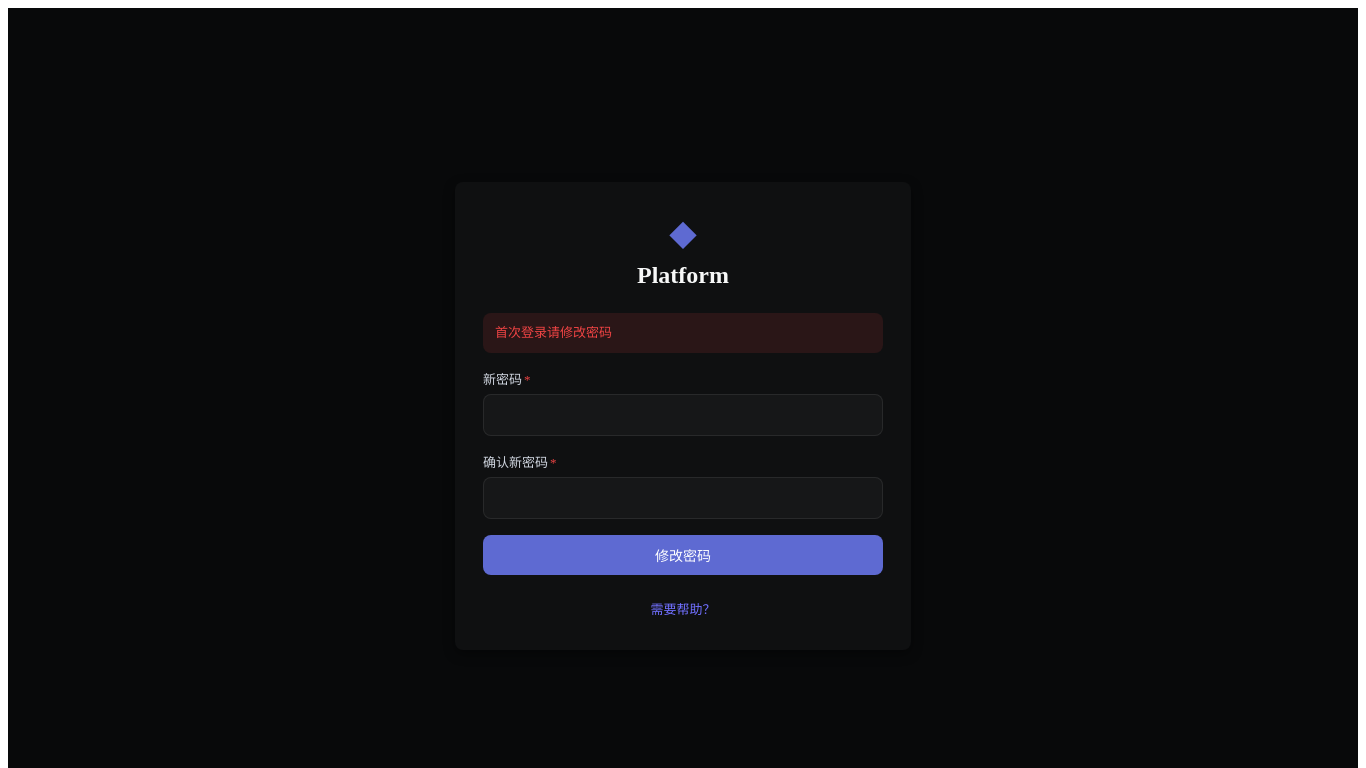
Scenario: AC：强制改密态（E1 骨架，G-8 降级） › 两次密码不一致 → 字段级校验
In the password field labelled "新密码*": (683, 415) [483, 394, 883, 436], type "newpass1"
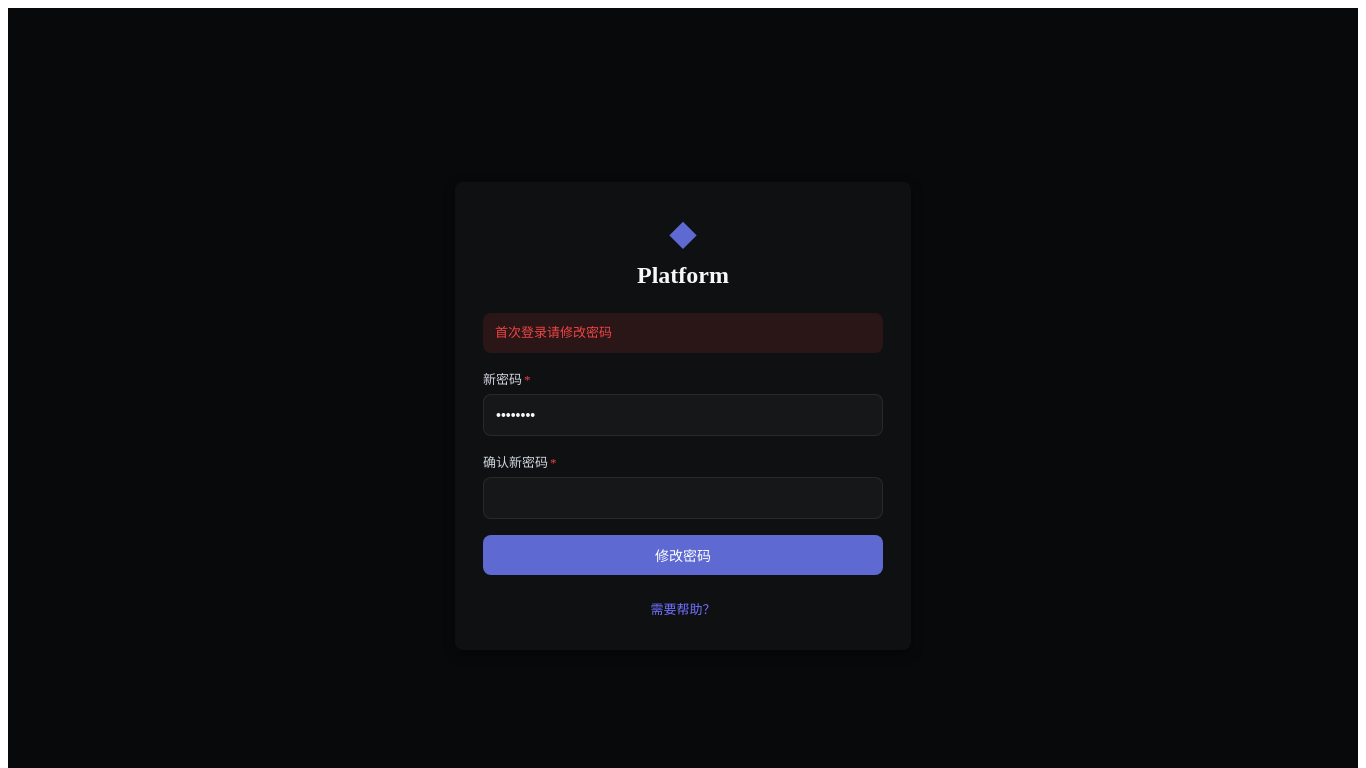
In the password field labelled "确认新密码*": (683, 498) [483, 477, 883, 519], type "newpass2"
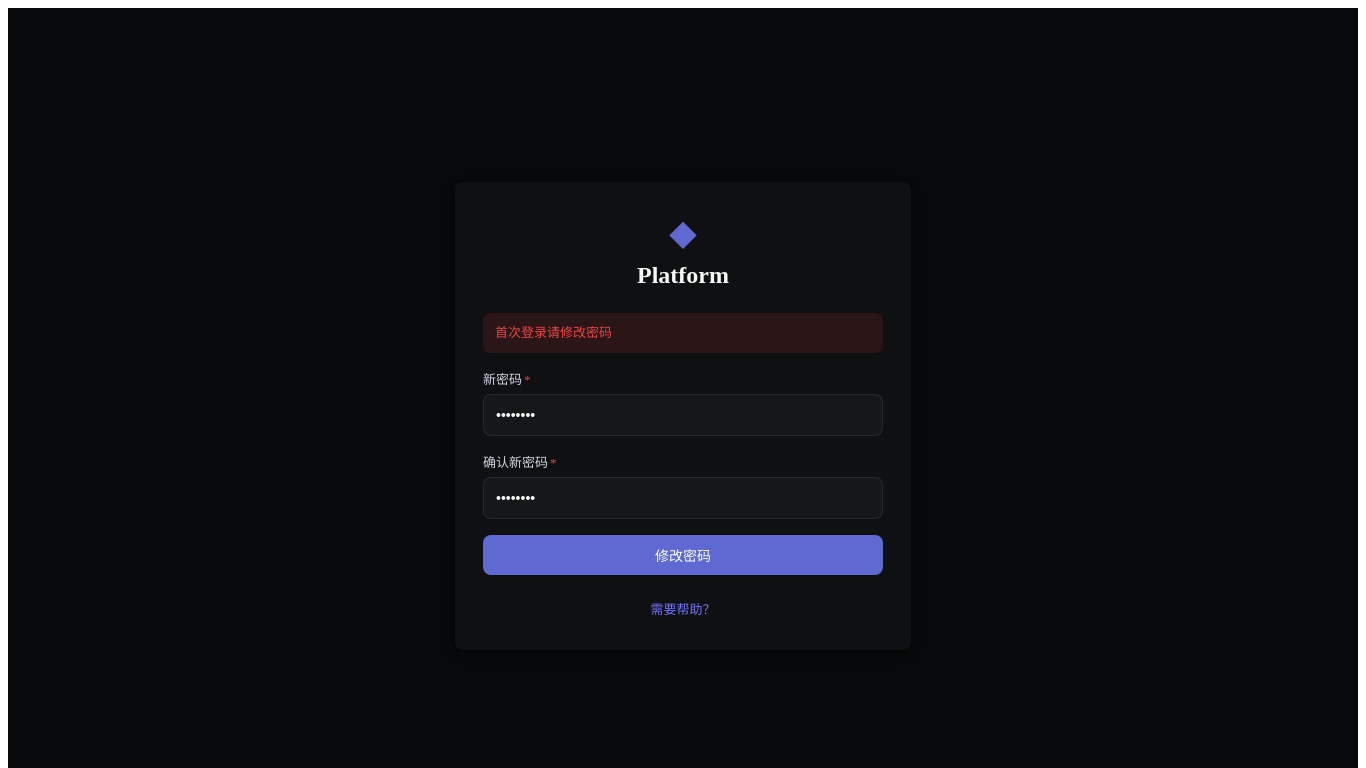
Submit the form, box [483, 369, 883, 575]
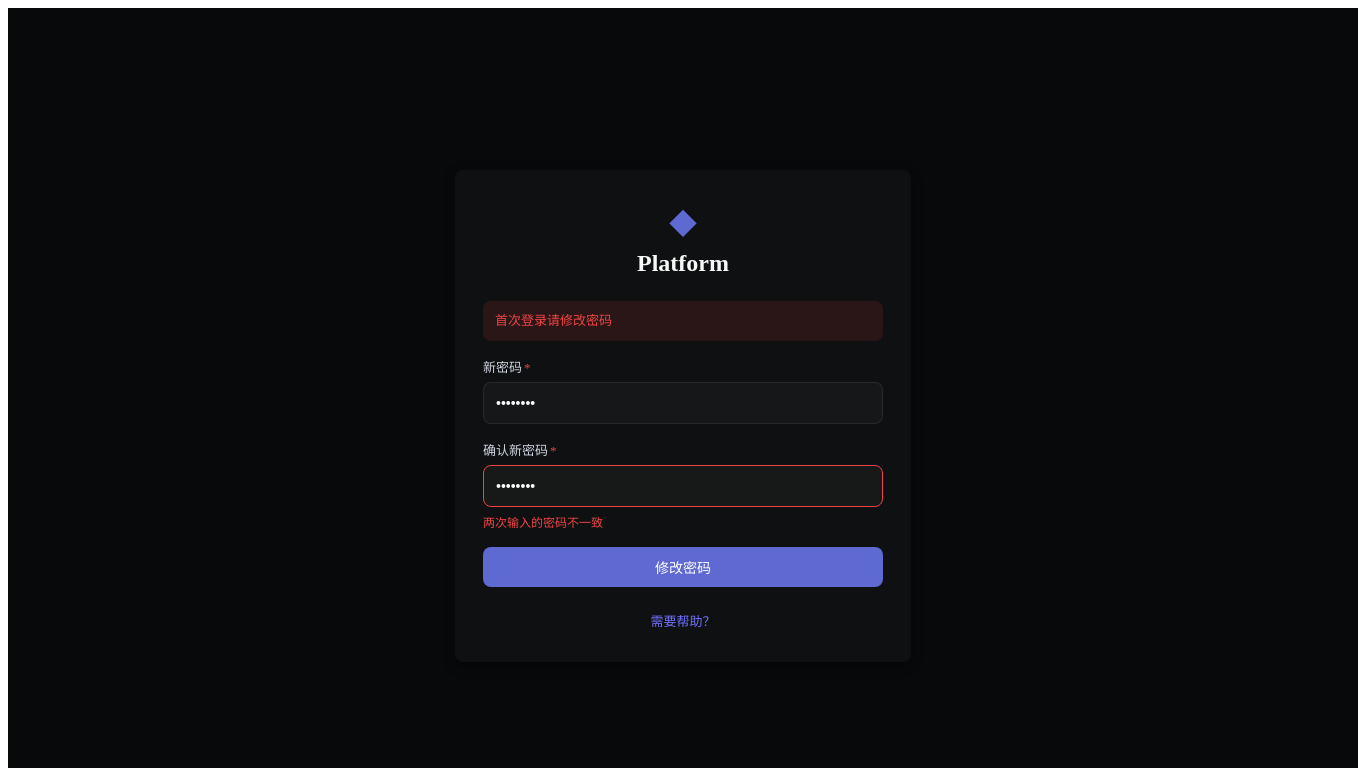
Result: the message with id "confirm-password-error" reads "两次输入的密码不一致" at [483, 516, 603, 530]
